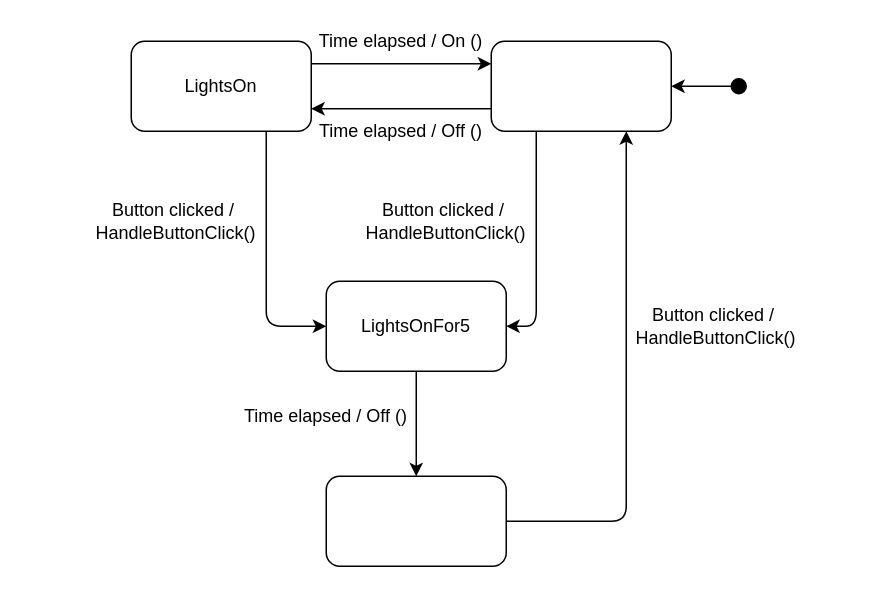
This 891x593 diagram has some shape labels left out. Each missing label, with the centre of its shape:
LightsOff: the point at 580,85
LightsOffAfter5: the point at 415,520
